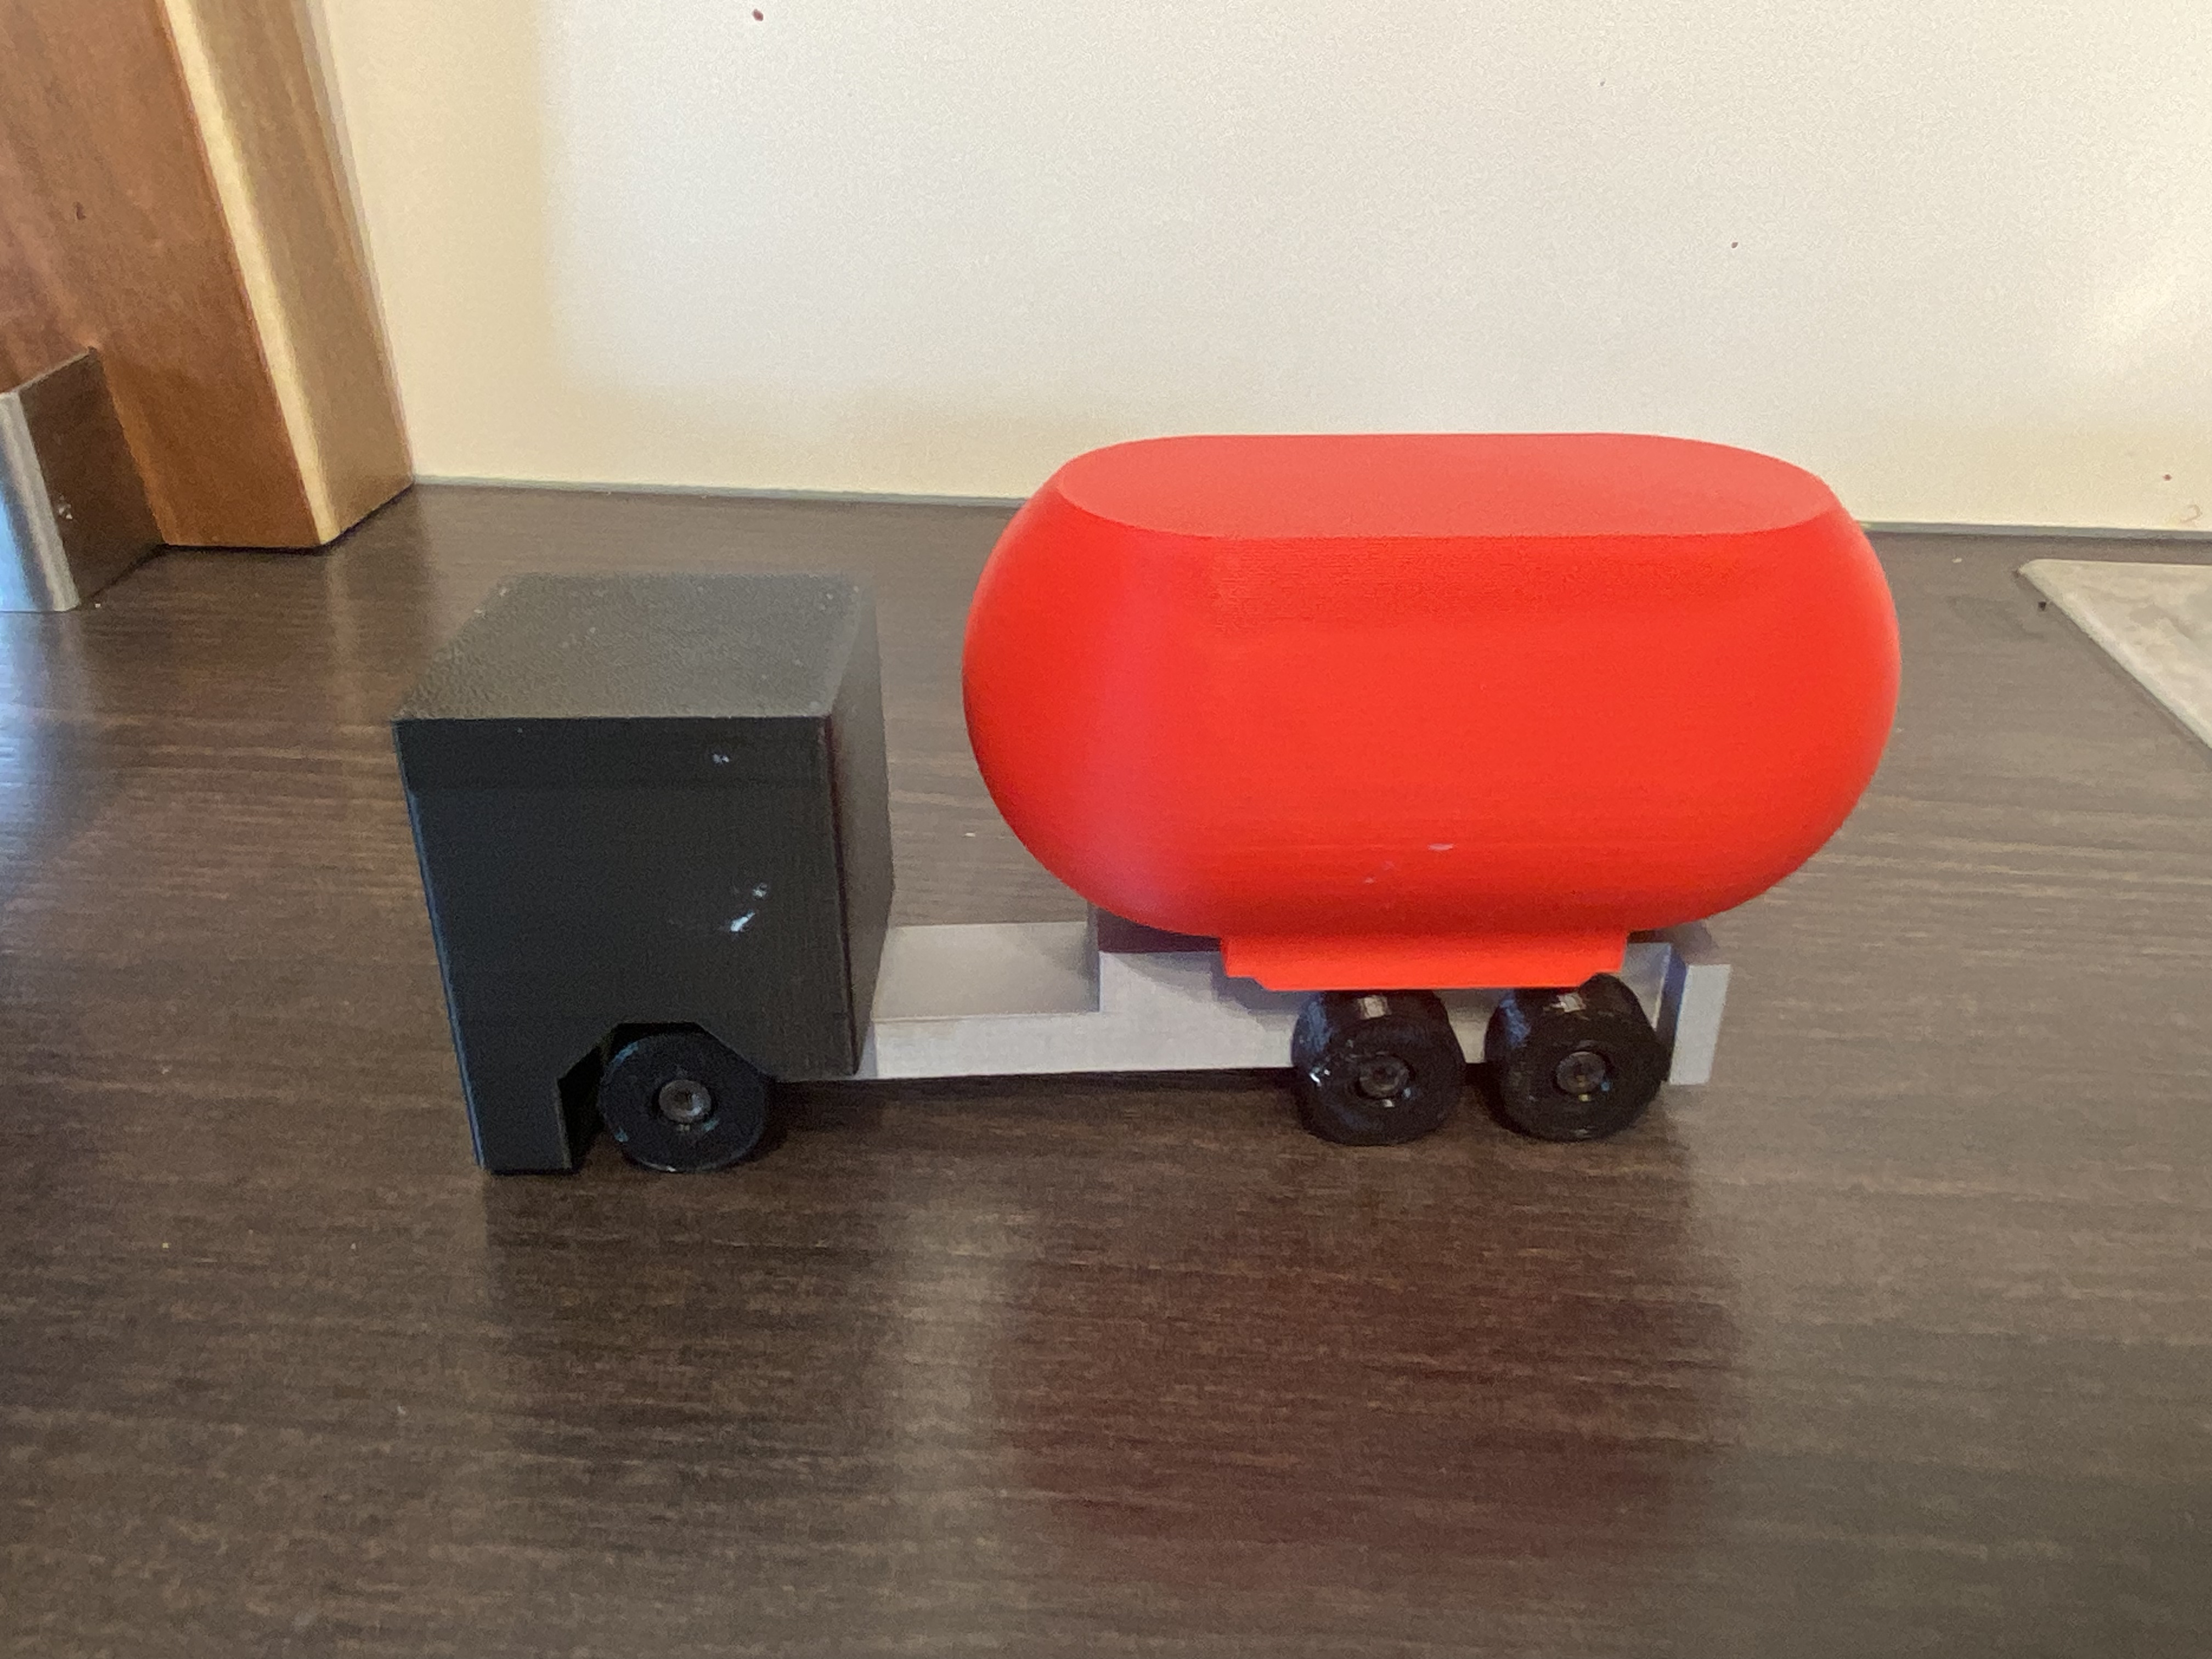red_truck: (383, 437, 1909, 1164)
